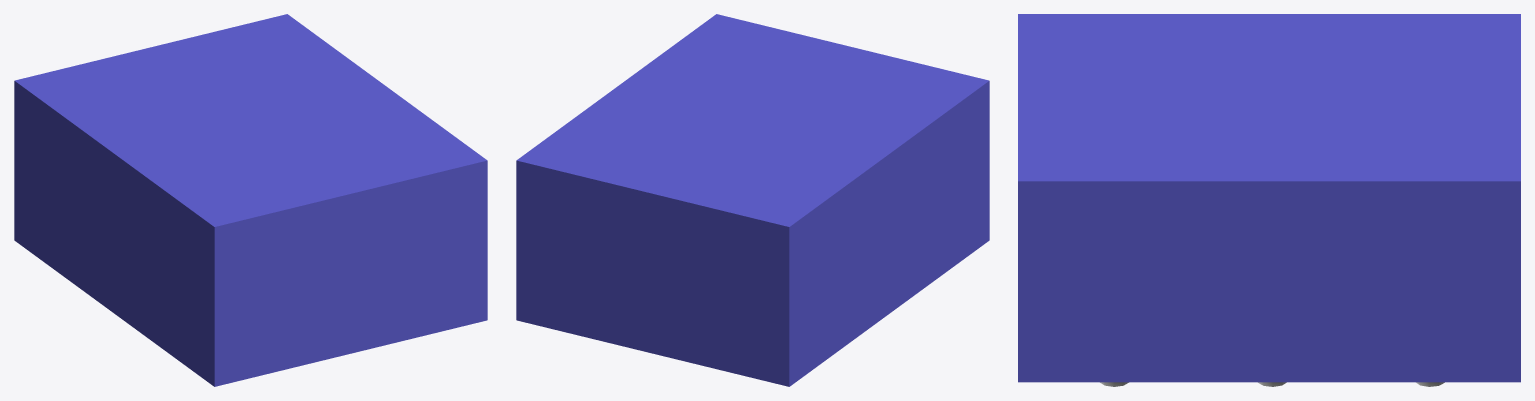
File: coveredstructure01.DAE.dae
The picture shows the model from 3 angles, left to right: view 1: azimuth 30°, elevation 25°; view 2: azimuth 150°, elevation 25°; view 3: azimuth 270°, elevation 25°; orthographic projection. The views are drawn at different scales.
Parts seen in each view (by area): view 1: bounds; view 2: bounds; view 3: bounds.
Part boxes in pixels (left/top/right/bottom): bounds: left=14, top=14, right=487, bottom=386; bounds: left=516, top=14, right=989, bottom=386; bounds: left=1018, top=14, right=1520, bottom=382.
Bounding box in the file's own units: 10.36 × 13.15 × 6.35.
